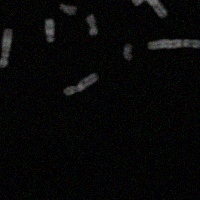chromosome: (63, 73, 98, 95), (127, 0, 167, 18), (148, 39, 200, 49), (0, 28, 11, 67), (86, 14, 97, 35), (45, 19, 55, 42), (58, 4, 76, 16), (132, 0, 172, 5), (122, 44, 131, 59)
